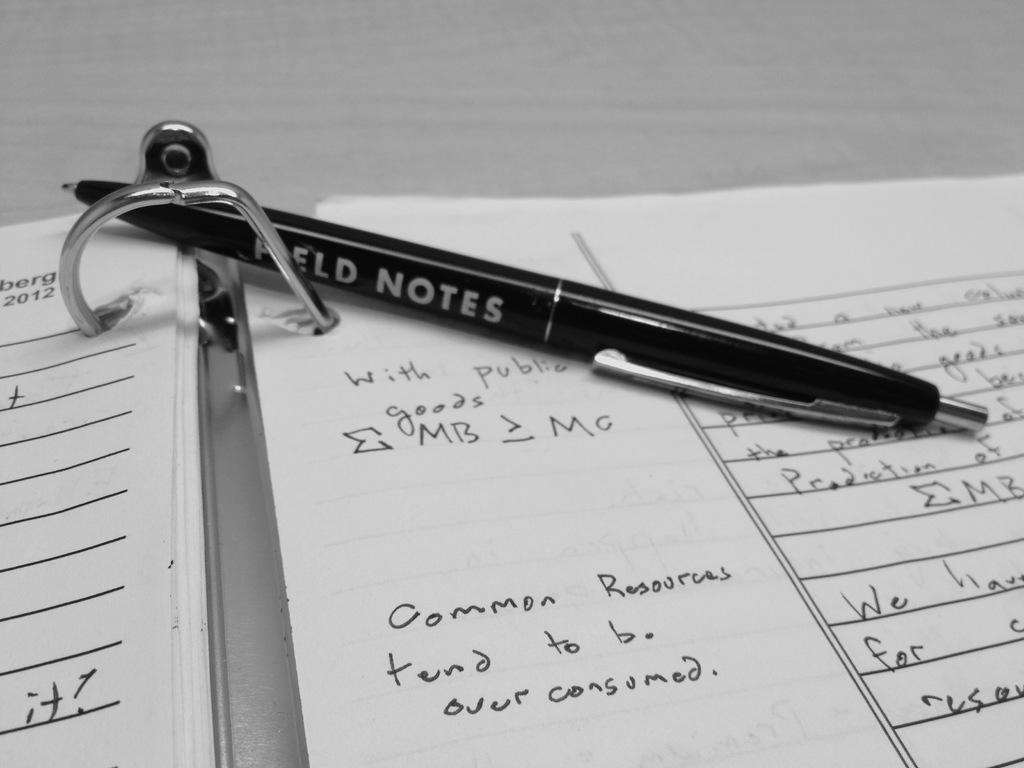pen: (59, 181, 991, 420)
